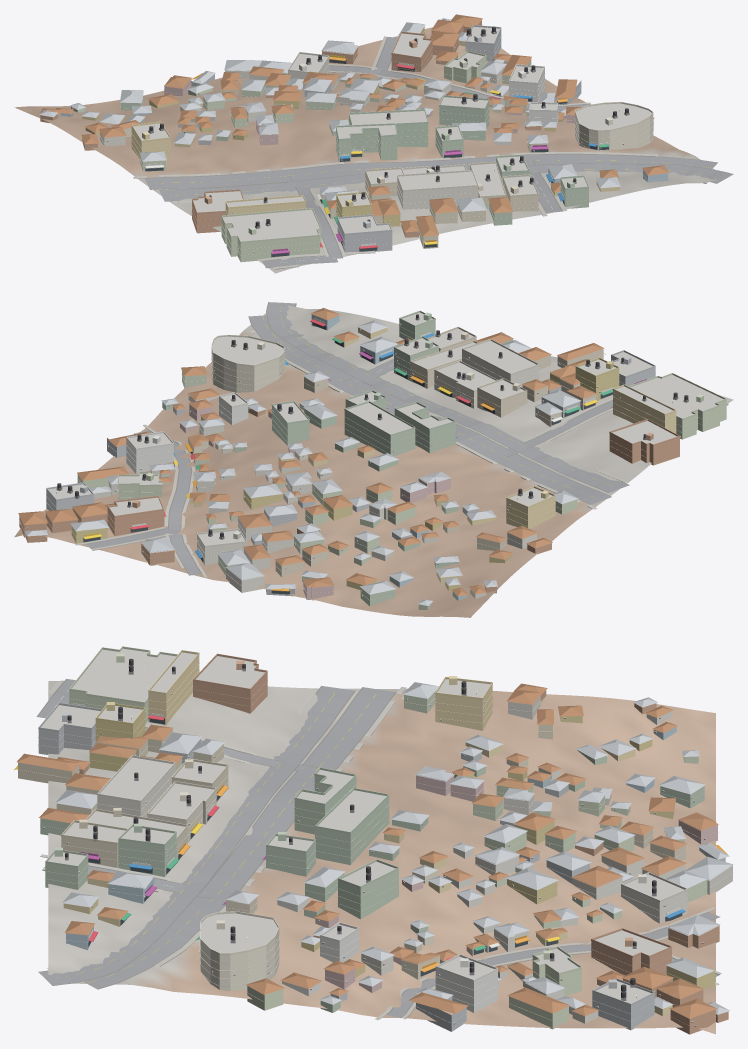
The picture shows the model from 3 angles, top to bottom: view 1: azimuth 30°, elevation 25°; view 2: azimuth 150°, elevation 25°; view 3: azimuth 270°, elevation 25°; orthographic projection. The views are drawn at different scales.
Visible parts, largest first — view 1: Buildings-col, Terrain-col, Details, Roads-col, Sidewalks-col; view 2: Buildings-col, Terrain-col, Details, Roads-col, Sidewalks-col; view 3: Buildings-col, Terrain-col, Roads-col, Details, Sidewalks-col.
Boxes of the visible parts, <box> form: Buildings-col: <box>39,14,669,262</box>; Terrain-col: <box>14,27,716,273</box>; Details: <box>71,25,668,256</box>; Roads-col: <box>144,37,733,268</box>; Sidewalks-col: <box>133,36,708,269</box>; Buildings-col: <box>18,308,726,609</box>; Terrain-col: <box>14,305,733,617</box>; Details: <box>19,310,726,606</box>; Roads-col: <box>86,302,728,575</box>; Sidewalks-col: <box>75,330,627,577</box>; Buildings-col: <box>16,648,733,1034</box>; Terrain-col: <box>48,680,715,1034</box>; Roads-col: <box>36,679,719,1017</box>; Details: <box>14,646,733,1026</box>; Sidewalks-col: <box>40,681,721,1020</box>.
Size of the model in its own units: 271 by 47.31 by 276.
